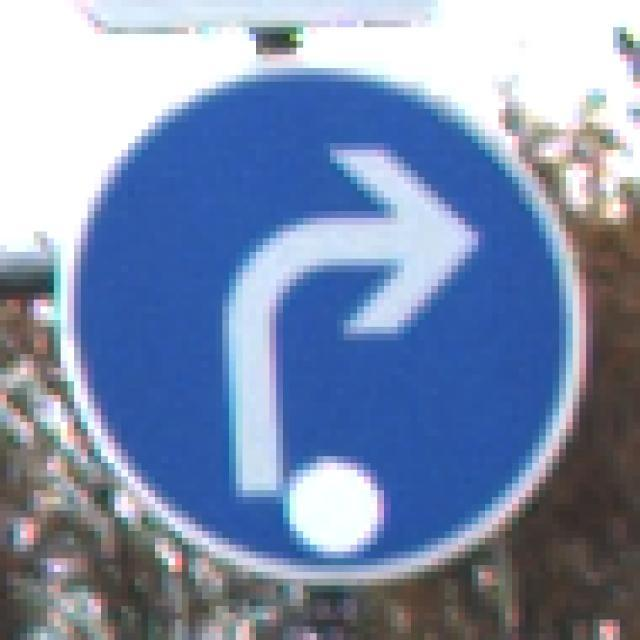compulsary turn right ahead: (51, 50, 600, 594)
